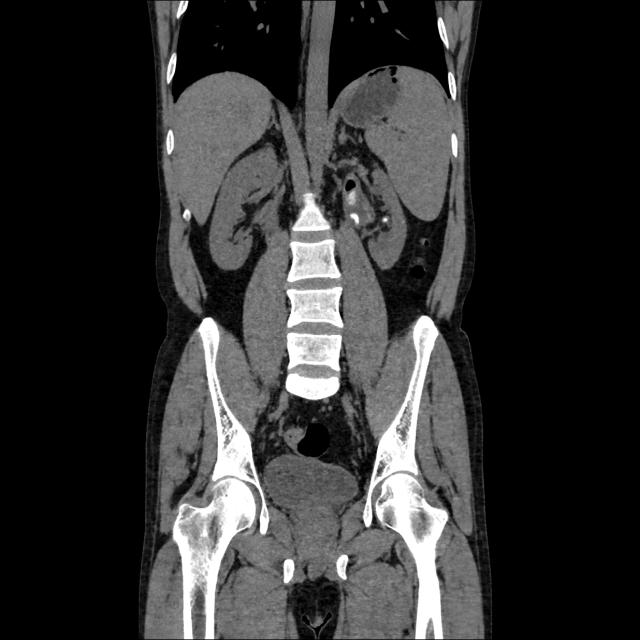kidneystone: (345, 211, 368, 227)
